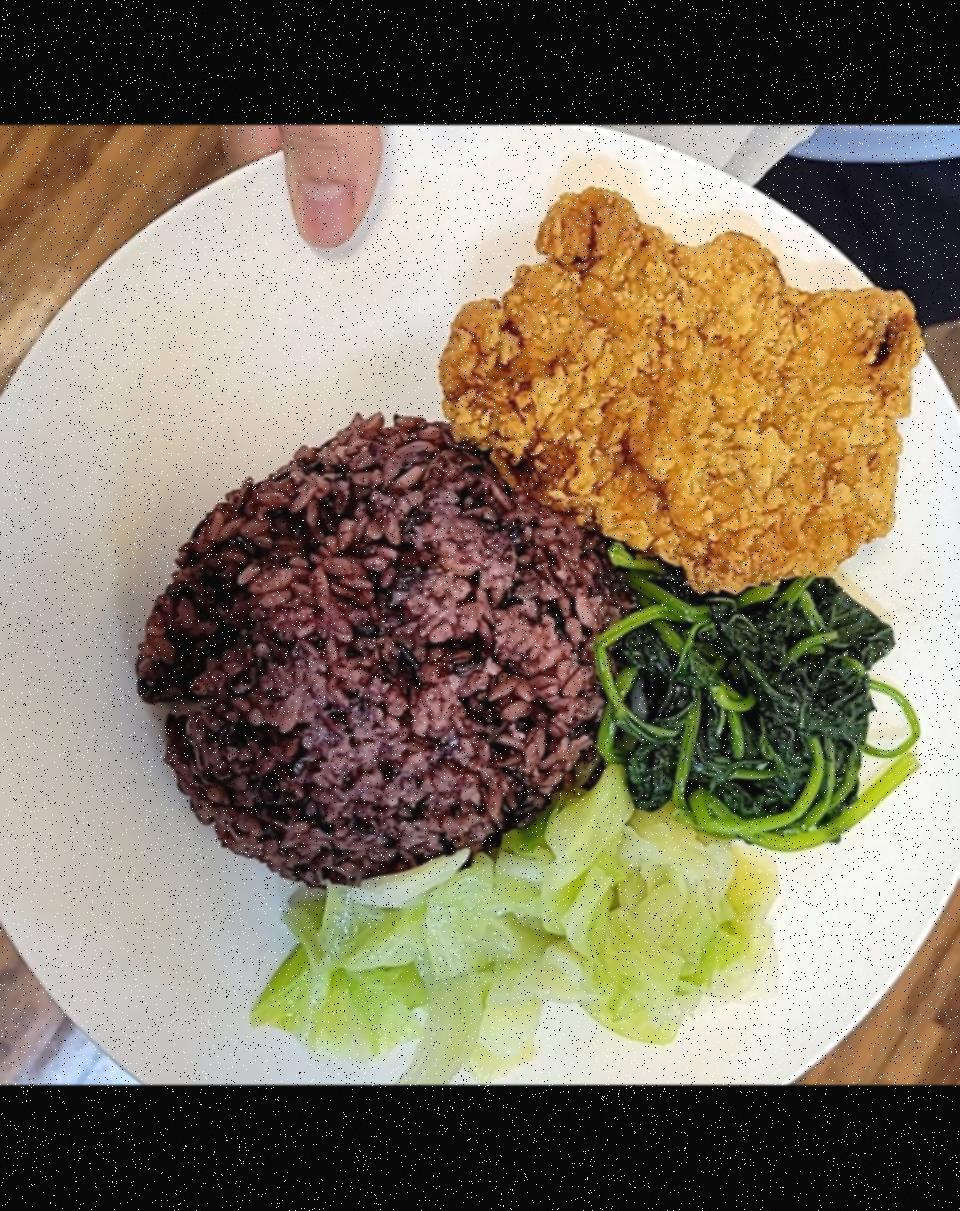kara chicken leg steak: (436, 183, 938, 600)
plate: (0, 125, 960, 1075)
purple rice: (118, 414, 622, 892)
side dish: (238, 784, 780, 1050), (594, 536, 892, 862)
